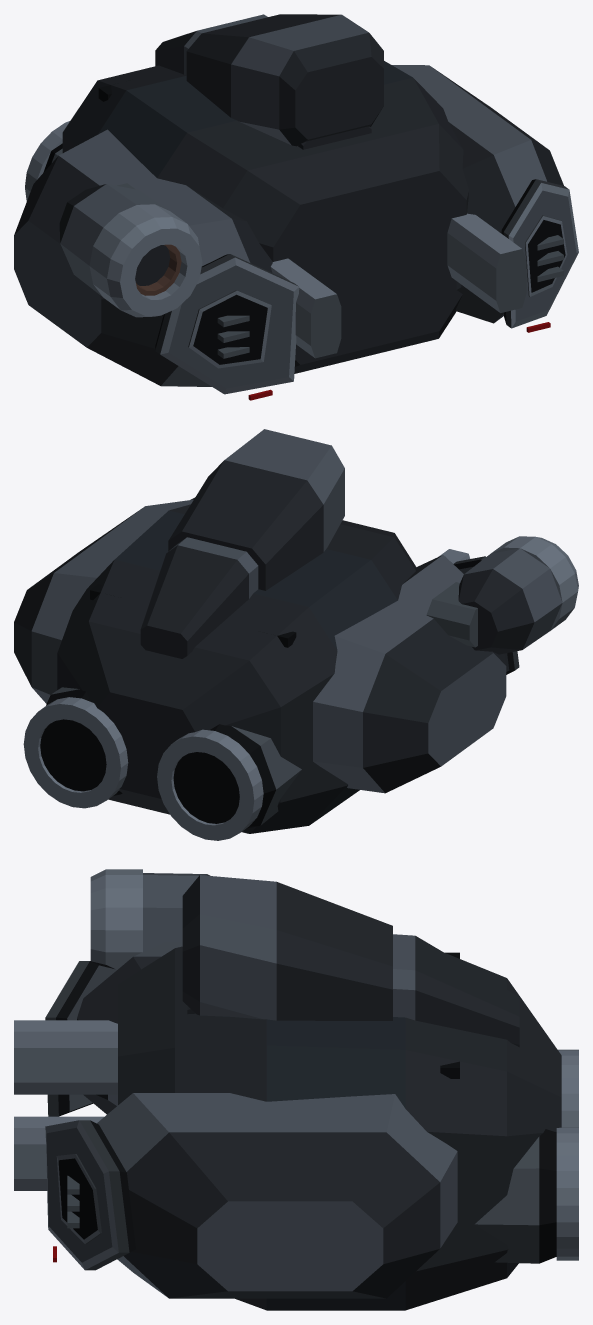
Rendered from VeilHull.obj.
The picture shows the model from 3 angles, top to bottom: view 1: azimuth 30°, elevation 25°; view 2: azimuth 150°, elevation 25°; view 3: azimuth 270°, elevation 25°; orthographic projection. The views are drawn at different scales.
Parts seen in each view (by area): view 1: armoured_pressure_hull, heavy_shoulder, dorsal_panel_mount, shoulder_face, bore_support_rail, sensor_protective_collar, shoulder_recess, sensor_housing, dorsal_spine, shoulder_inlet, exhaust_collar, broken_sensor_socket; view 2: armoured_pressure_hull, heavy_shoulder, dorsal_panel_mount, exhaust_collar, rear_engine, dorsal_spine, sensor_housing, sensor_protective_collar, sensor_bracket, shoulder_face; view 3: heavy_shoulder, armoured_pressure_hull, dorsal_panel_mount, bore_support_rail, shoulder_face, dorsal_spine, rear_engine, sensor_protective_collar, exhaust_collar, sensor_housing, shoulder_recess, shoulder_inlet.
Part boxes in pixels (<box>): armoured_pressure_hull: <box>62,61,468,373</box>; heavy_shoulder: <box>14,65,563,386</box>; dorsal_panel_mount: <box>186,14,383,146</box>; shoulder_face: <box>155,179,578,394</box>; bore_support_rail: <box>271,213,526,358</box>; sensor_protective_collar: <box>89,204,202,317</box>; shoulder_recess: <box>188,215,567,368</box>; sensor_housing: <box>59,184,170,296</box>; dorsal_spine: <box>155,14,371,149</box>; shoulder_inlet: <box>217,235,563,358</box>; exhaust_collar: <box>25,121,69,201</box>; broken_sensor_socket: <box>136,244,181,295</box>; armoured_pressure_hull: <box>57,504,415,833</box>; heavy_shoulder: <box>14,499,506,793</box>; dorsal_panel_mount: <box>168,429,344,590</box>; exhaust_collar: <box>23,697,263,840</box>; rear_engine: <box>40,687,301,828</box>; dorsal_spine: <box>140,537,258,658</box>; sensor_housing: <box>458,548,562,654</box>; sensor_protective_collar: <box>490,536,578,630</box>; sensor_bracket: <box>426,582,477,647</box>; shoulder_face: <box>190,497,519,674</box>; heavy_shoulder: <box>77,942,457,1298</box>; armoured_pressure_hull: <box>118,946,561,1310</box>; dorsal_panel_mount: <box>182,875,392,1020</box>; bore_support_rail: <box>14,1020,117,1190</box>; shoulder_face: <box>45,961,135,1270</box>; dorsal_spine: <box>187,934,519,1047</box>; rear_engine: <box>474,1129,556,1263</box>; sensor_protective_collar: <box>90,869,142,970</box>; exhaust_collar: <box>556,1049,578,1260</box>; sensor_housing: <box>143,873,210,951</box>; shoulder_recess: <box>56,1154,101,1244</box>; shoulder_inlet: <box>67,1175,79,1228</box>.
Size of the model in its own units: 2.49 by 1.6 by 2.28.
